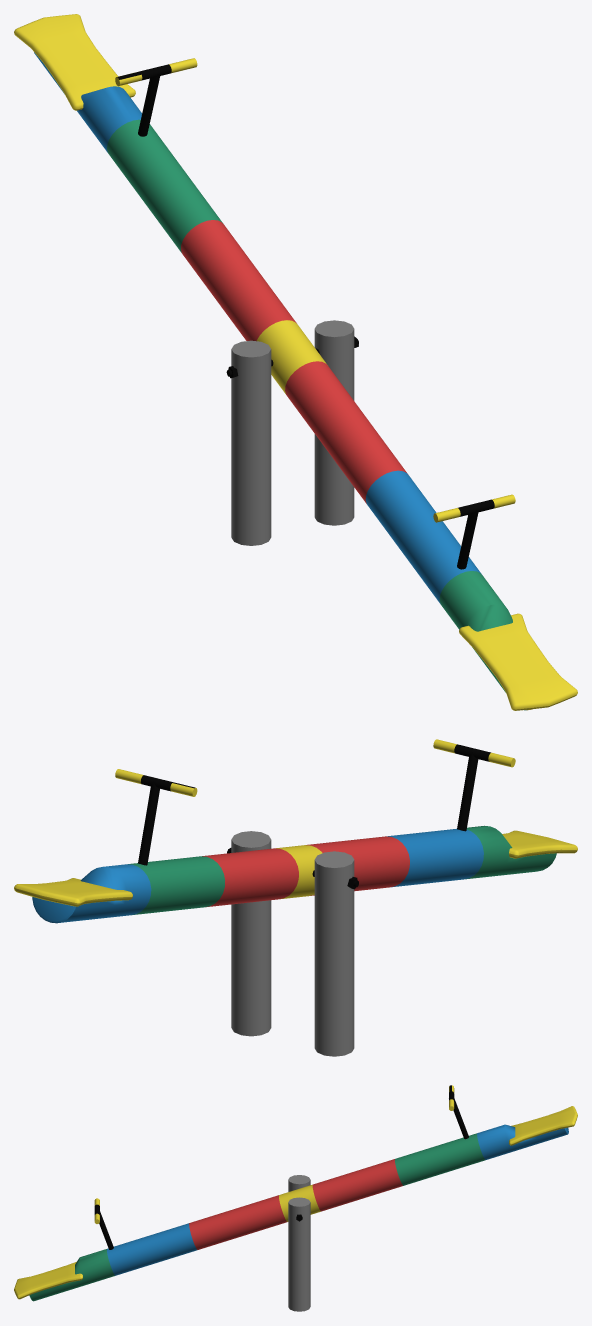
Rendered from wipTEST.fbx.
3 views of the same model, one above another, from view 1: azimuth 30°, elevation 25°; view 2: azimuth 150°, elevation 25°; view 3: azimuth 270°, elevation 25° (orthographic). The views are drawn at different scales.
Parts seen in each view (by area): view 1: Wip; view 2: Wip; view 3: Wip.
Part boxes in pixels (x1,y1,x2,y2): Wip: [14, 14, 577, 710]; Wip: [14, 739, 577, 1056]; Wip: [14, 1085, 577, 1311].
Bounding box in the file's own units: 16.66 × 45.33 × 113.
